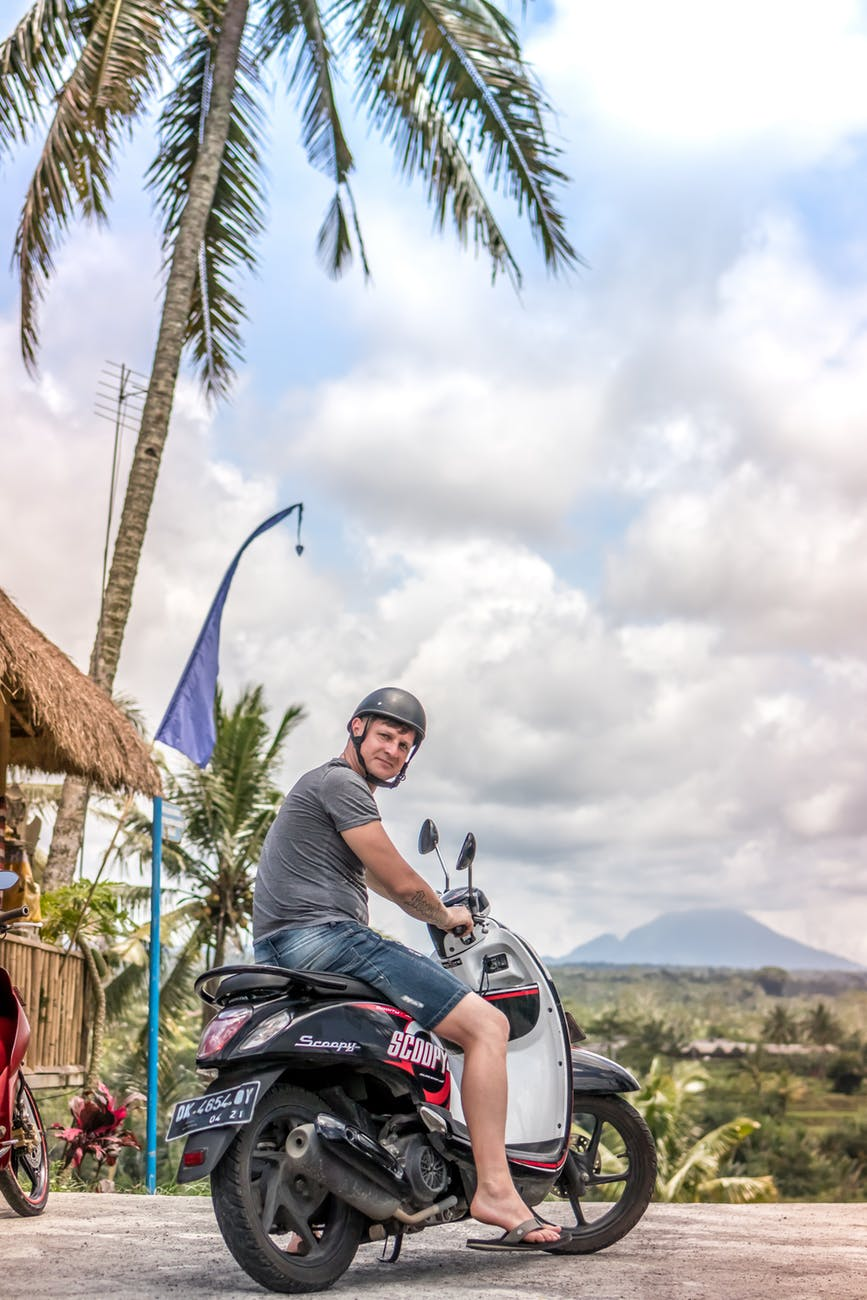helmet: (358, 683, 428, 741)
